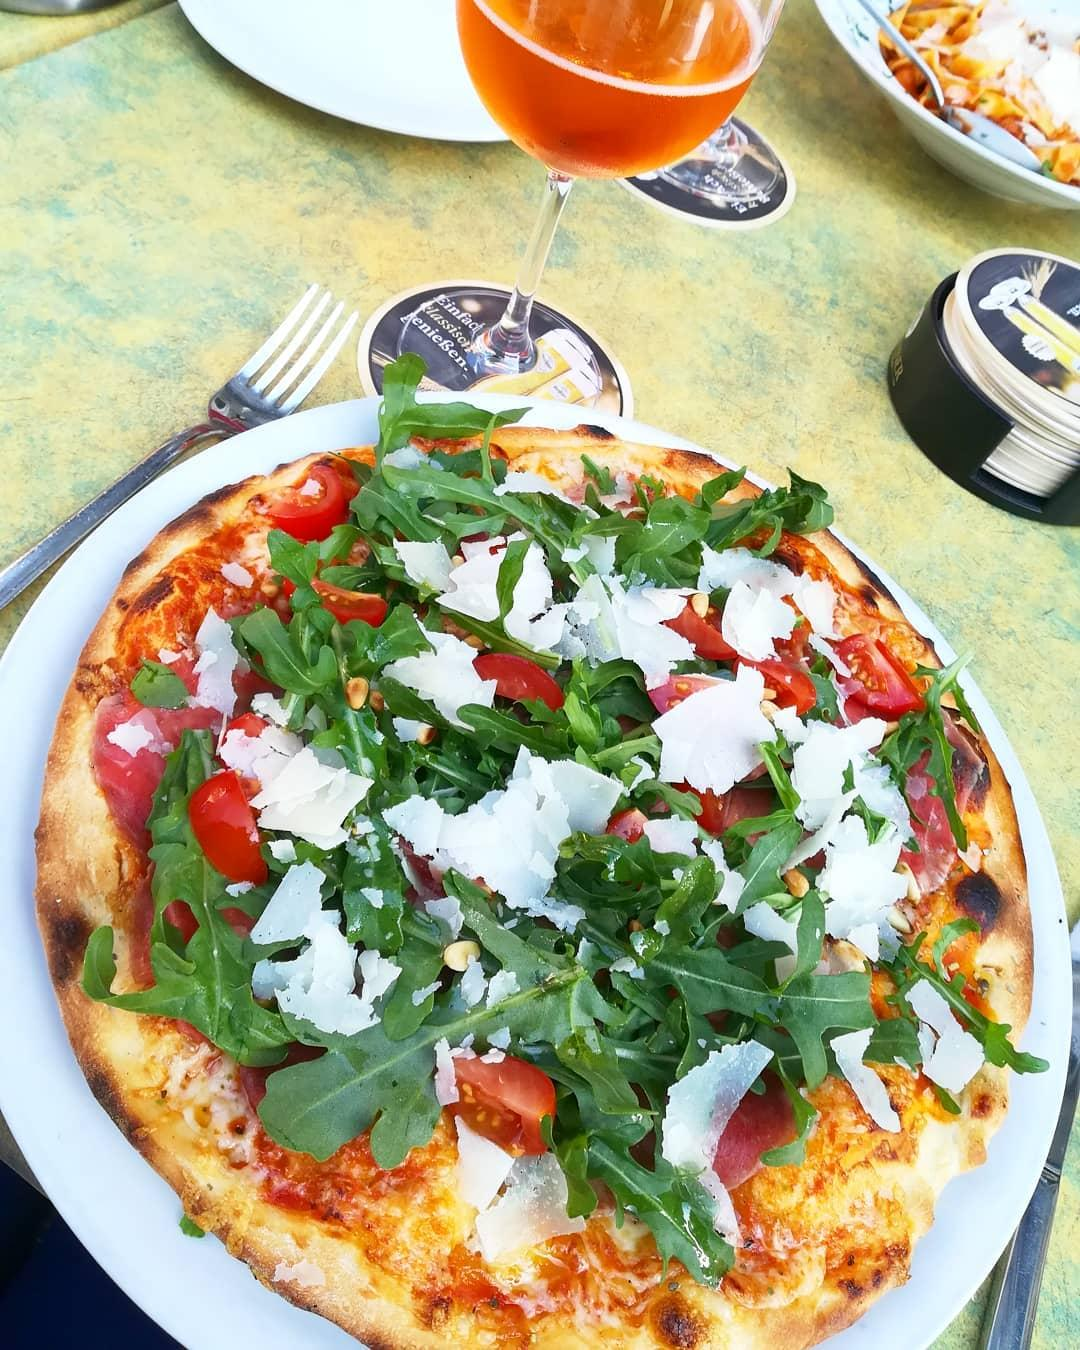Basil: (396, 876, 856, 1039), (381, 439, 817, 568), (106, 788, 239, 1048), (555, 1054, 700, 1262), (256, 561, 407, 745), (271, 1030, 423, 1158), (431, 701, 576, 758), (565, 676, 639, 771), (131, 651, 193, 723)
Cheese: (791, 711, 925, 940), (403, 760, 571, 924), (256, 876, 381, 1036), (666, 1036, 758, 1217), (638, 679, 779, 778), (411, 559, 568, 645), (256, 723, 363, 838), (709, 549, 818, 641), (894, 975, 974, 1094), (581, 569, 667, 674), (381, 641, 486, 723)
Pizza: (26, 406, 1035, 1350)
Tomatoes: (439, 1048, 560, 1158), (825, 628, 916, 713), (256, 458, 346, 529), (201, 776, 264, 872), (480, 644, 558, 711), (663, 601, 742, 665), (316, 576, 382, 622)
